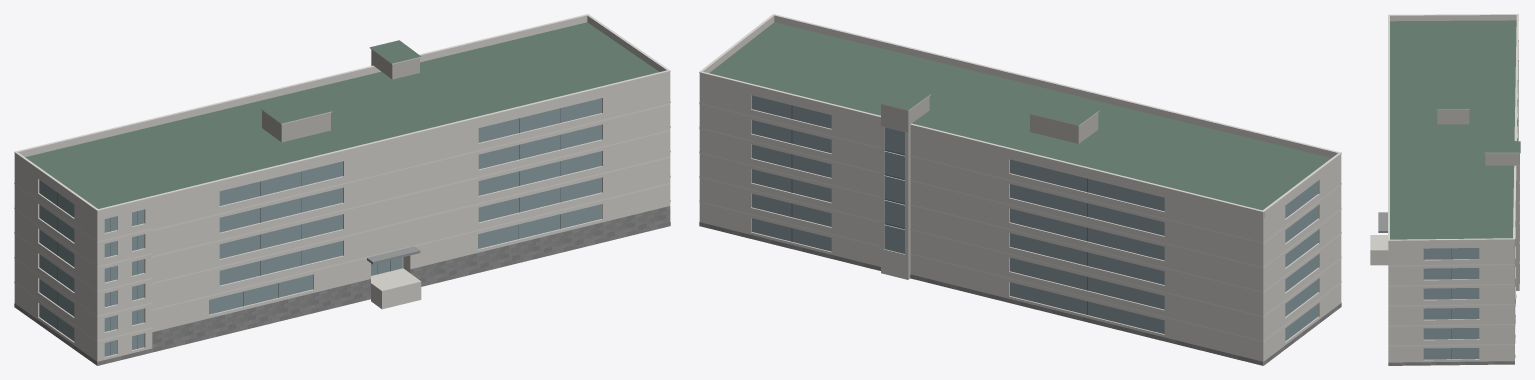
3 views of the same model, side by side, from view 1: azimuth 30°, elevation 25°; view 2: azimuth 150°, elevation 25°; view 3: azimuth 270°, elevation 25° (orthographic). The views are drawn at different scales.
Parts seen in each view (by area): view 1: b25__wall, b25__roof, b25__glass, b25__base, b25__trim, b25__parapet, b25__wall2, b25__entranceStair, b25__frame; view 2: b25__wall, b25__roof, b25__glass, b25__trim, b25__parapet, b25__base, b25__wall2; view 3: b25__roof, b25__wall, b25__glass, b25__trim, b25__parapet, b25__wall2, b25__entranceStair, b25__base, b25__canopy.
Boxes of the visible parts, <box> form: b25__wall: <box>14,77,670,365</box>; b25__roof: <box>25,22,668,351</box>; b25__glass: <box>39,98,601,356</box>; b25__base: <box>14,206,670,365</box>; b25__trim: <box>14,14,670,341</box>; b25__parapet: <box>14,15,670,217</box>; b25__wall2: <box>262,49,419,142</box>; b25__entranceStair: <box>371,268,421,309</box>; b25__frame: <box>57,108,560,355</box>; b25__wall: <box>699,79,1341,365</box>; b25__roof: <box>709,22,1331,210</box>; b25__glass: <box>751,95,1318,341</box>; b25__trim: <box>699,14,1341,341</box>; b25__parapet: <box>699,15,1341,218</box>; b25__base: <box>699,222,1341,365</box>; b25__wall2: <box>881,96,1098,279</box>; b25__roof: <box>1390,20,1520,239</box>; b25__wall: <box>1388,40,1519,362</box>; b25__glass: <box>1423,248,1479,359</box>; b25__trim: <box>1388,14,1520,346</box>; b25__parapet: <box>1388,15,1516,245</box>; b25__wall2: <box>1437,110,1519,290</box>; b25__entranceStair: <box>1370,235,1388,265</box>; b25__base: <box>1388,295,1516,365</box>; b25__canopy: <box>1378,212,1387,232</box>.
Size of the model in its own units: 87.56 by 25.29 by 24.59.
11 materials, 1 textured.
